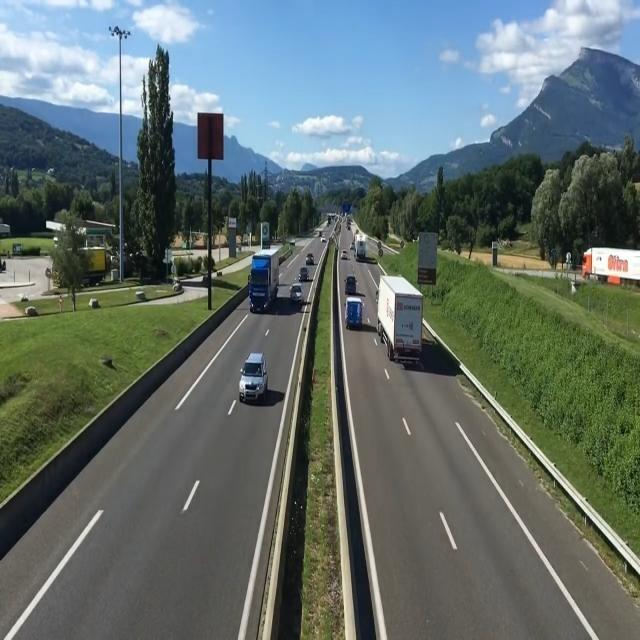Car: (236, 353, 268, 403), (343, 275, 359, 297), (290, 282, 304, 306), (297, 266, 310, 283), (306, 253, 314, 266), (341, 250, 349, 260)
Truck: (375, 275, 424, 367), (578, 246, 640, 290), (245, 252, 280, 313), (344, 297, 363, 329)
